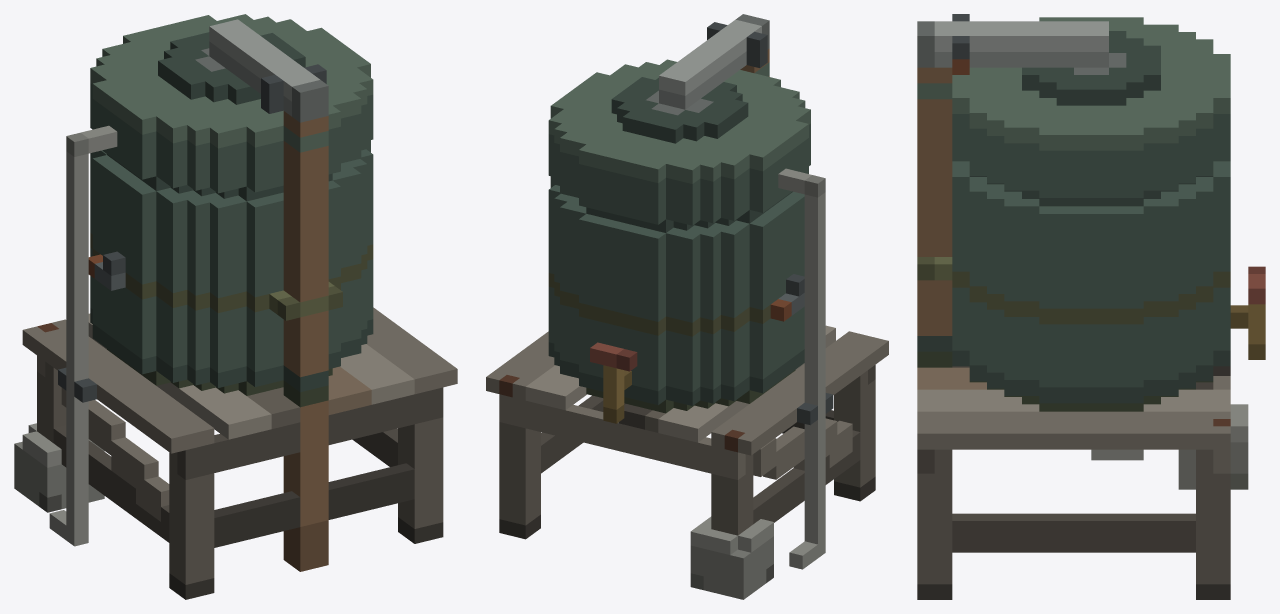
The model's file is Claude_rain_collector_basic.glb.
The picture shows the model from 3 angles, left to right: view 1: azimuth 30°, elevation 25°; view 2: azimuth 150°, elevation 25°; view 3: azimuth 270°, elevation 25°; orthographic projection. The views are drawn at different scales.
Parts seen in each view (by area): view 1: Claude_rain_collector_basic; view 2: Claude_rain_collector_basic; view 3: Claude_rain_collector_basic.
Part boxes in pixels (box(x1,y1,x2,y2)): Claude_rain_collector_basic: box(14, 14, 457, 599); Claude_rain_collector_basic: box(486, 14, 888, 599); Claude_rain_collector_basic: box(917, 14, 1265, 599).
Bounding box in the file's own units: 1.05 × 1.6 × 1.
